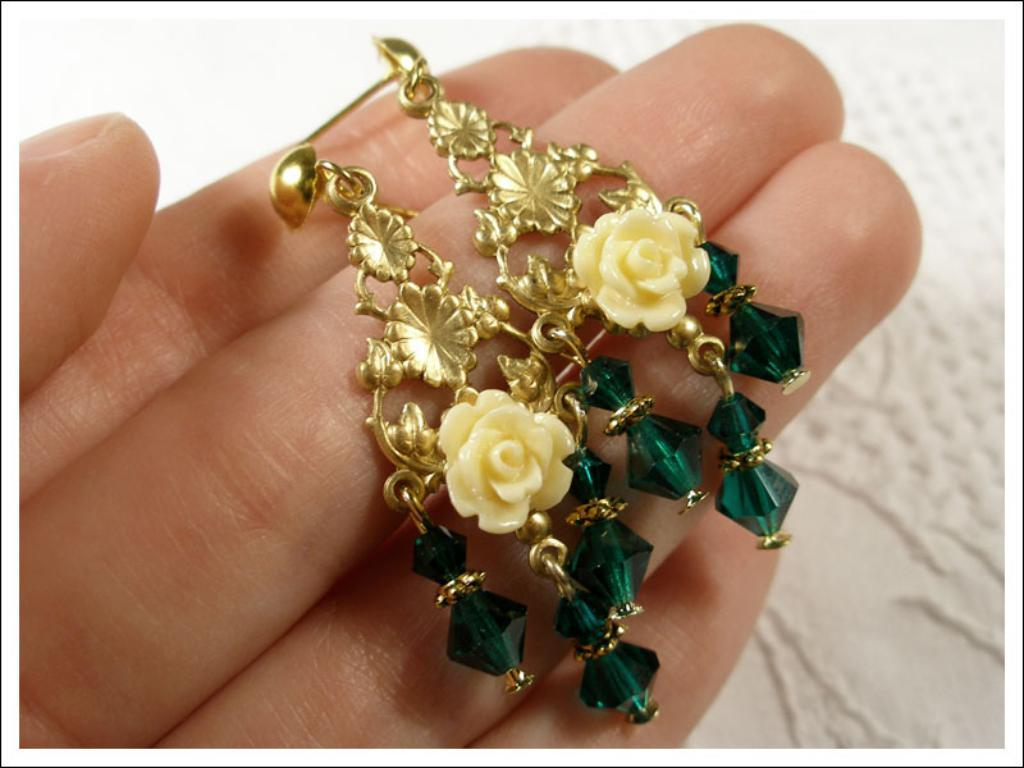earring: (268, 33, 809, 724)
